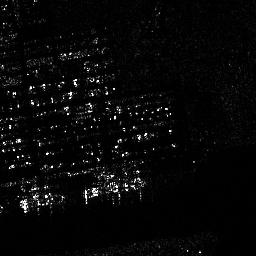ship: (83, 175, 145, 198), (18, 194, 66, 209)
